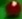brown: (0, 0, 22, 19)
